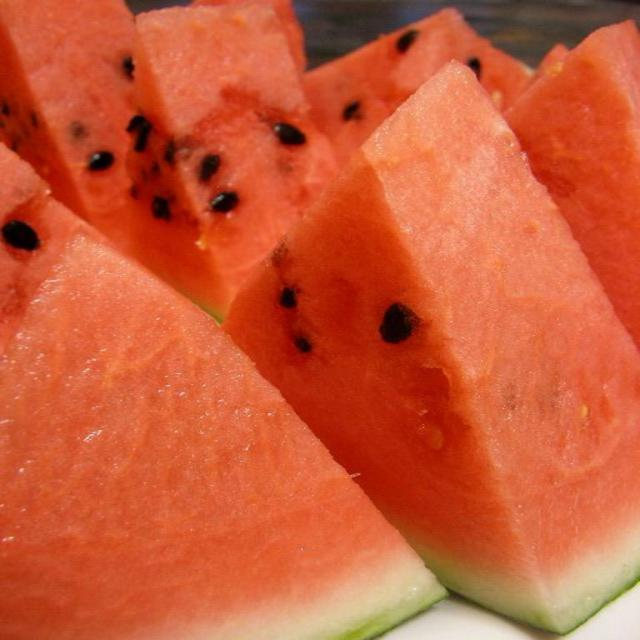Watermelon: (0, 0, 638, 639)
